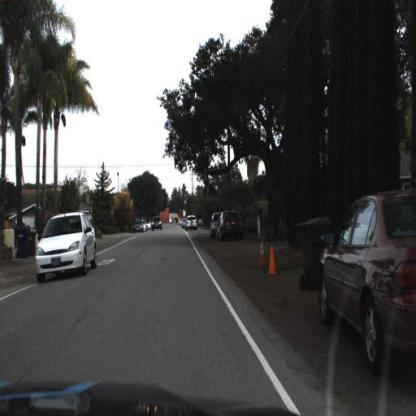car: (318, 187, 416, 381), (33, 211, 98, 283), (35, 210, 99, 281), (216, 211, 245, 242), (151, 214, 165, 235), (186, 214, 200, 232)
